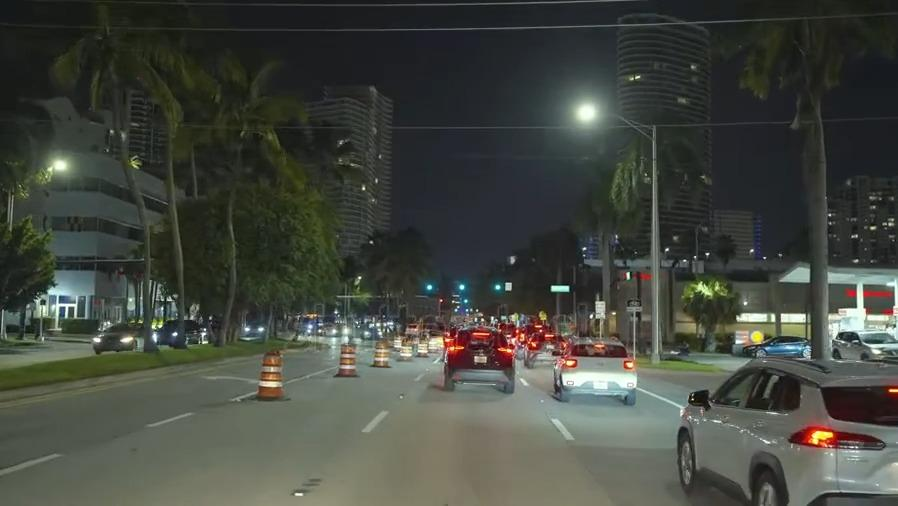car: (681, 355, 898, 506), (548, 336, 643, 406), (442, 326, 517, 396), (830, 326, 898, 367), (89, 322, 155, 352), (741, 331, 811, 359), (525, 332, 564, 367), (155, 316, 202, 344)
cone: (256, 349, 286, 401), (336, 341, 356, 378), (372, 338, 390, 367), (414, 337, 428, 357), (399, 339, 412, 359)
wheel: (676, 427, 695, 491), (751, 467, 780, 506)
